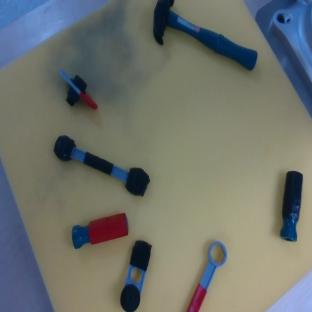part_1_bad: (117, 238, 152, 312)
part_1_good: (52, 61, 99, 119)
part_2_bad: (278, 170, 305, 241)
part_2_good: (69, 212, 130, 249)
part_3_bad: (49, 129, 153, 198)
part_3_good: (177, 238, 232, 312)
